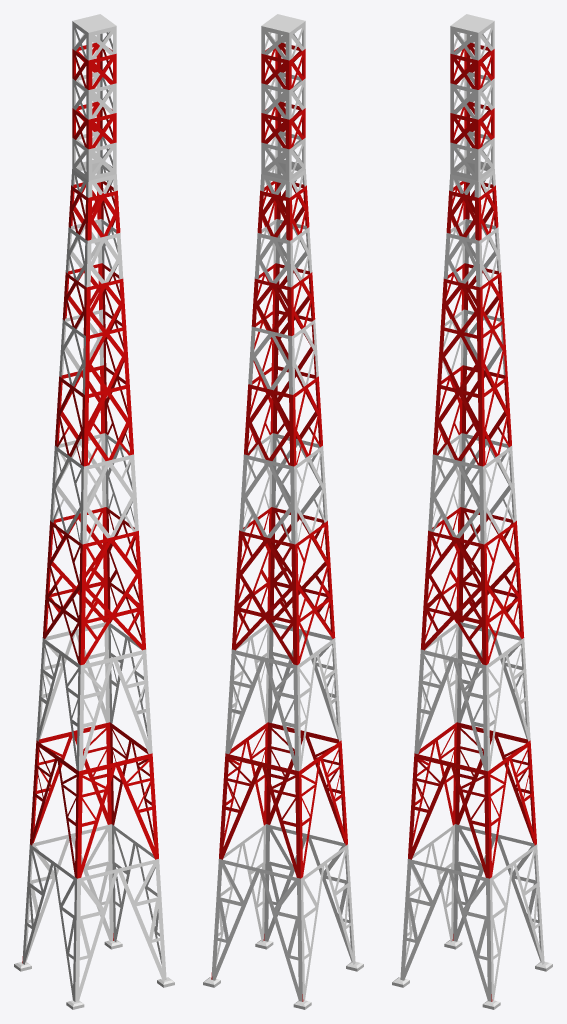
The model's file is macro.glb.
The picture shows the model from 3 angles, left to right: view 1: azimuth 30°, elevation 25°; view 2: azimuth 150°, elevation 25°; view 3: azimuth 330°, elevation 25°; orthographic projection.
Parts seen in each view (by area): view 1: 3DGeom-3, 3DGeom-1, 3DGeom-2; view 2: 3DGeom-3, 3DGeom-1, 3DGeom-2; view 3: 3DGeom-3, 3DGeom-1, 3DGeom-2.
Boxes of the visible parts, x1=… form: 3DGeom-3: x1=23, y1=21, x2=166, y2=1001; 3DGeom-1: x1=22, y1=42, x2=158, y2=963; 3DGeom-2: x1=14, y1=14, x2=174, y2=1009; 3DGeom-3: x1=212, y1=21, x2=355, y2=1001; 3DGeom-1: x1=211, y1=42, x2=347, y2=1001; 3DGeom-2: x1=203, y1=14, x2=363, y2=1009; 3DGeom-3: x1=400, y1=21, x2=544, y2=1001; 3DGeom-1: x1=408, y1=42, x2=536, y2=1001; 3DGeom-2: x1=392, y1=14, x2=552, y2=1009.
Size of the model in its own units: 5.4 by 48.23 by 5.4.
